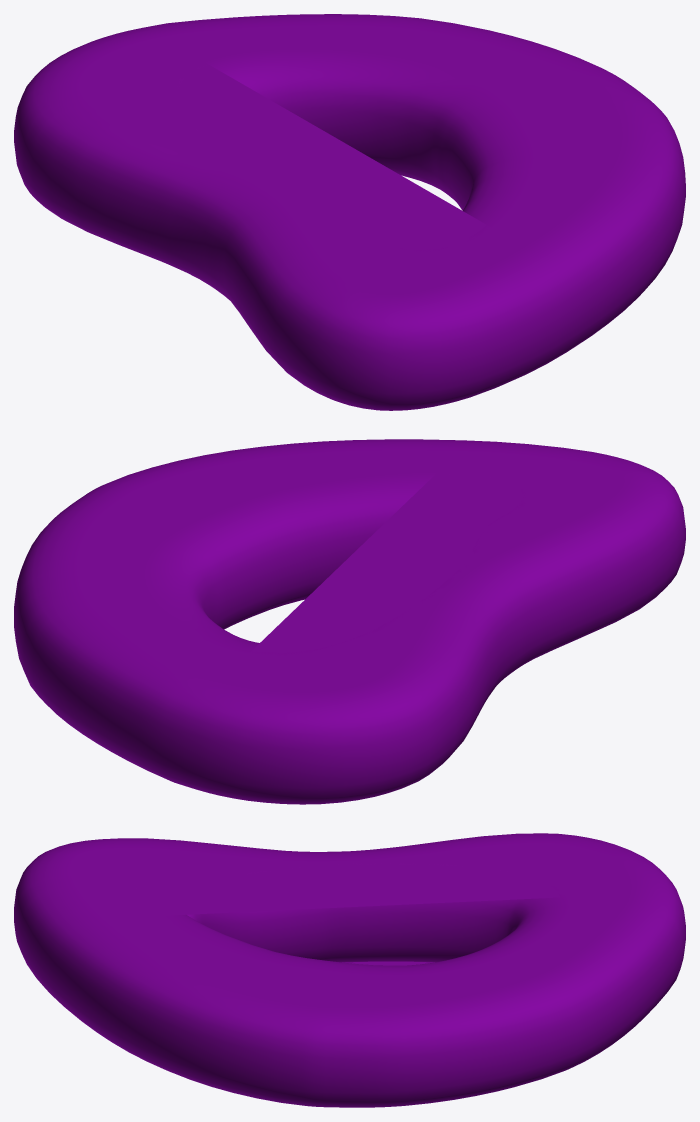
3 renders of one model, top to bottom at view 1: azimuth 30°, elevation 25°; view 2: azimuth 150°, elevation 25°; view 3: azimuth 270°, elevation 25°, orthographic. The views are drawn at different scales.
Parts seen in each view (by area): view 1: Curve.005; view 2: Curve.005; view 3: Curve.005.
Part boxes in pixels (x1,y1,x2,y2): Curve.005: (14, 14, 685, 410); Curve.005: (14, 439, 685, 804); Curve.005: (14, 833, 685, 1107).
Bounding box in the file's own units: 250 × 49.54 × 335.
Materials: 1 (1 with a texture image).
